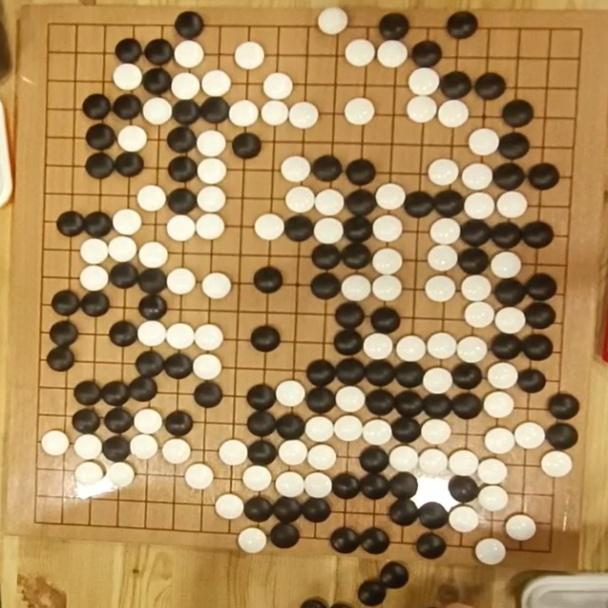corners: (536, 526, 570, 572), (566, 9, 594, 55), (30, 11, 68, 44), (19, 504, 52, 540)
